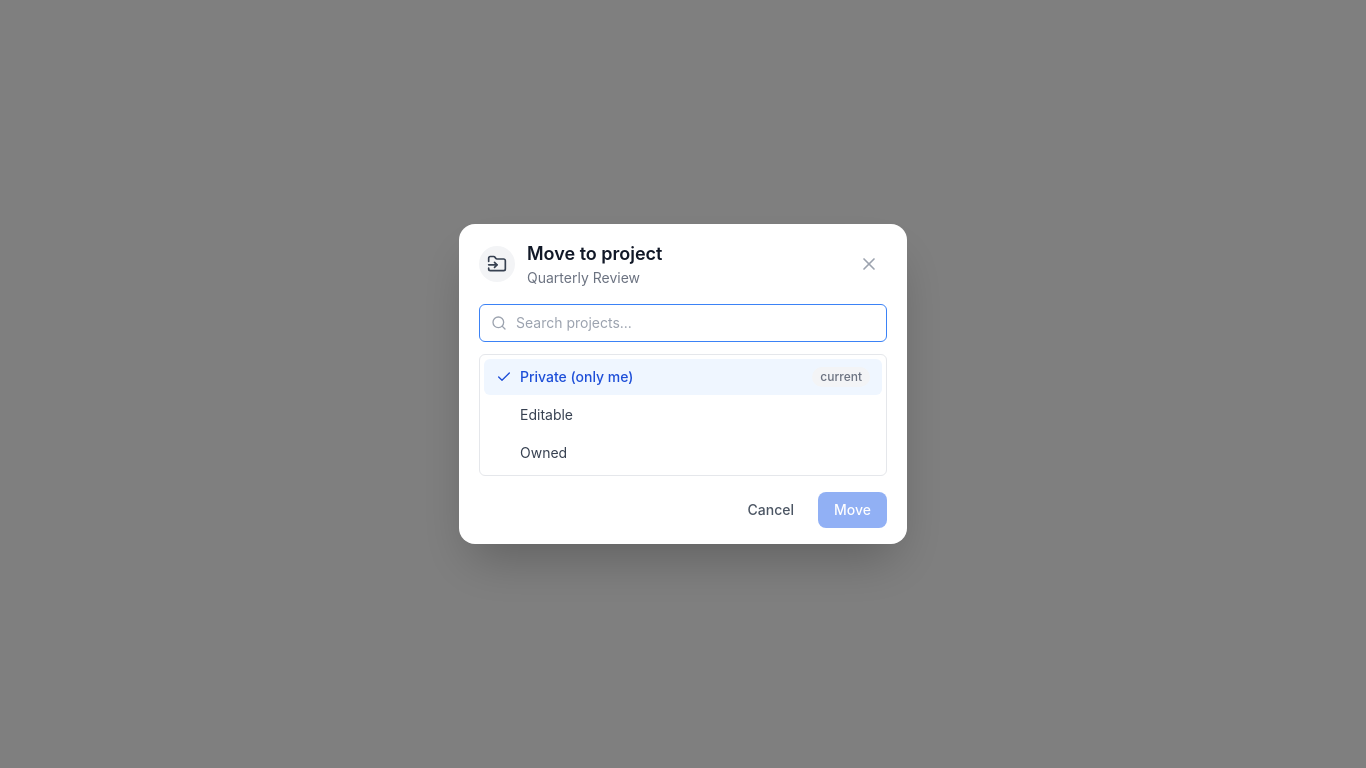
Test: MoveToProjectModal list contents › filters projects by search while Private stays visible
The width and height of the screenshot is (1366, 768).
Type "edit" into the field labelled "Search projects" at (683, 323), box [479,304,887,342]
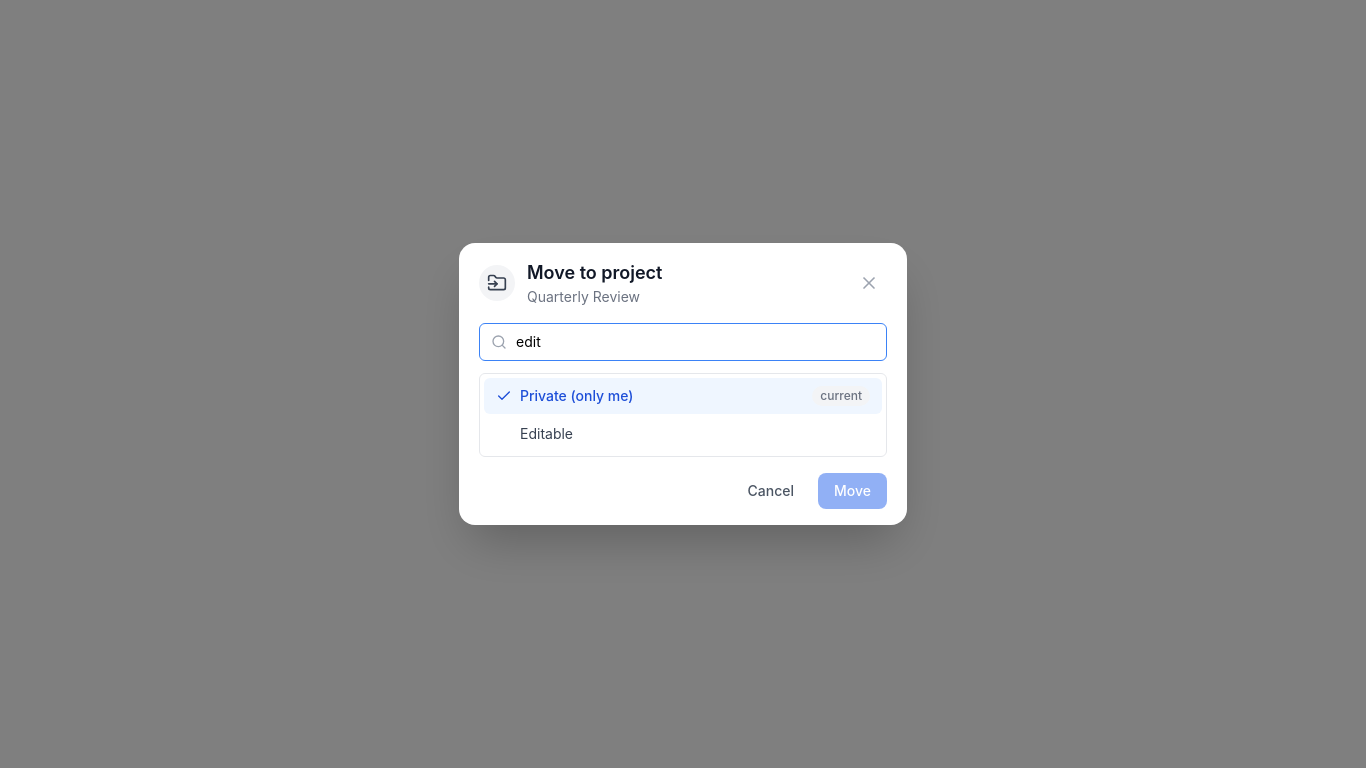
Expected: the button "Editable" is shown, [484,416,882,452]
Result: the button "Owned" is gone
